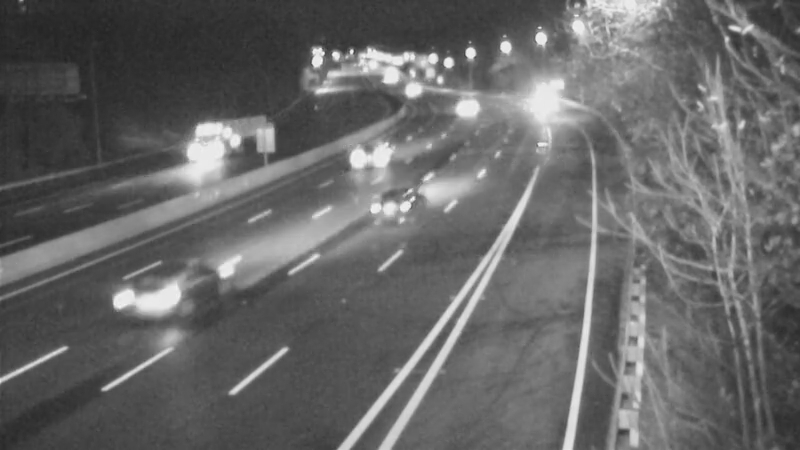vehicle: (103, 246, 213, 356), (337, 113, 417, 193), (352, 163, 432, 243), (166, 115, 246, 195), (390, 63, 440, 113), (437, 84, 487, 134), (519, 81, 569, 131)
